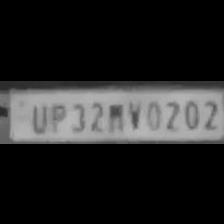0: (180, 96, 200, 130), (143, 96, 161, 130)
2: (160, 96, 180, 130), (199, 96, 219, 130), (86, 98, 104, 132)
3: (68, 97, 88, 130)
M: (104, 98, 124, 132)
P: (47, 100, 67, 132)
U: (26, 100, 48, 132)
